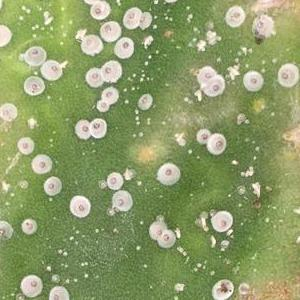Femea: (279, 67, 298, 83), (72, 198, 87, 217), (102, 61, 116, 80), (206, 80, 222, 95), (100, 24, 115, 40), (76, 121, 89, 139), (116, 39, 130, 54), (109, 174, 122, 190), (89, 4, 105, 17), (209, 66, 221, 83), (89, 69, 102, 84), (82, 37, 97, 50), (160, 166, 174, 179), (115, 194, 128, 208), (27, 47, 41, 60), (34, 159, 49, 171), (25, 81, 38, 94), (44, 180, 57, 193), (246, 73, 258, 87), (91, 120, 101, 136), (212, 138, 223, 152), (198, 129, 209, 141), (47, 63, 58, 75), (20, 140, 30, 152), (140, 95, 148, 108), (104, 90, 114, 100), (97, 101, 108, 109)
Macho: (194, 88, 203, 100)
